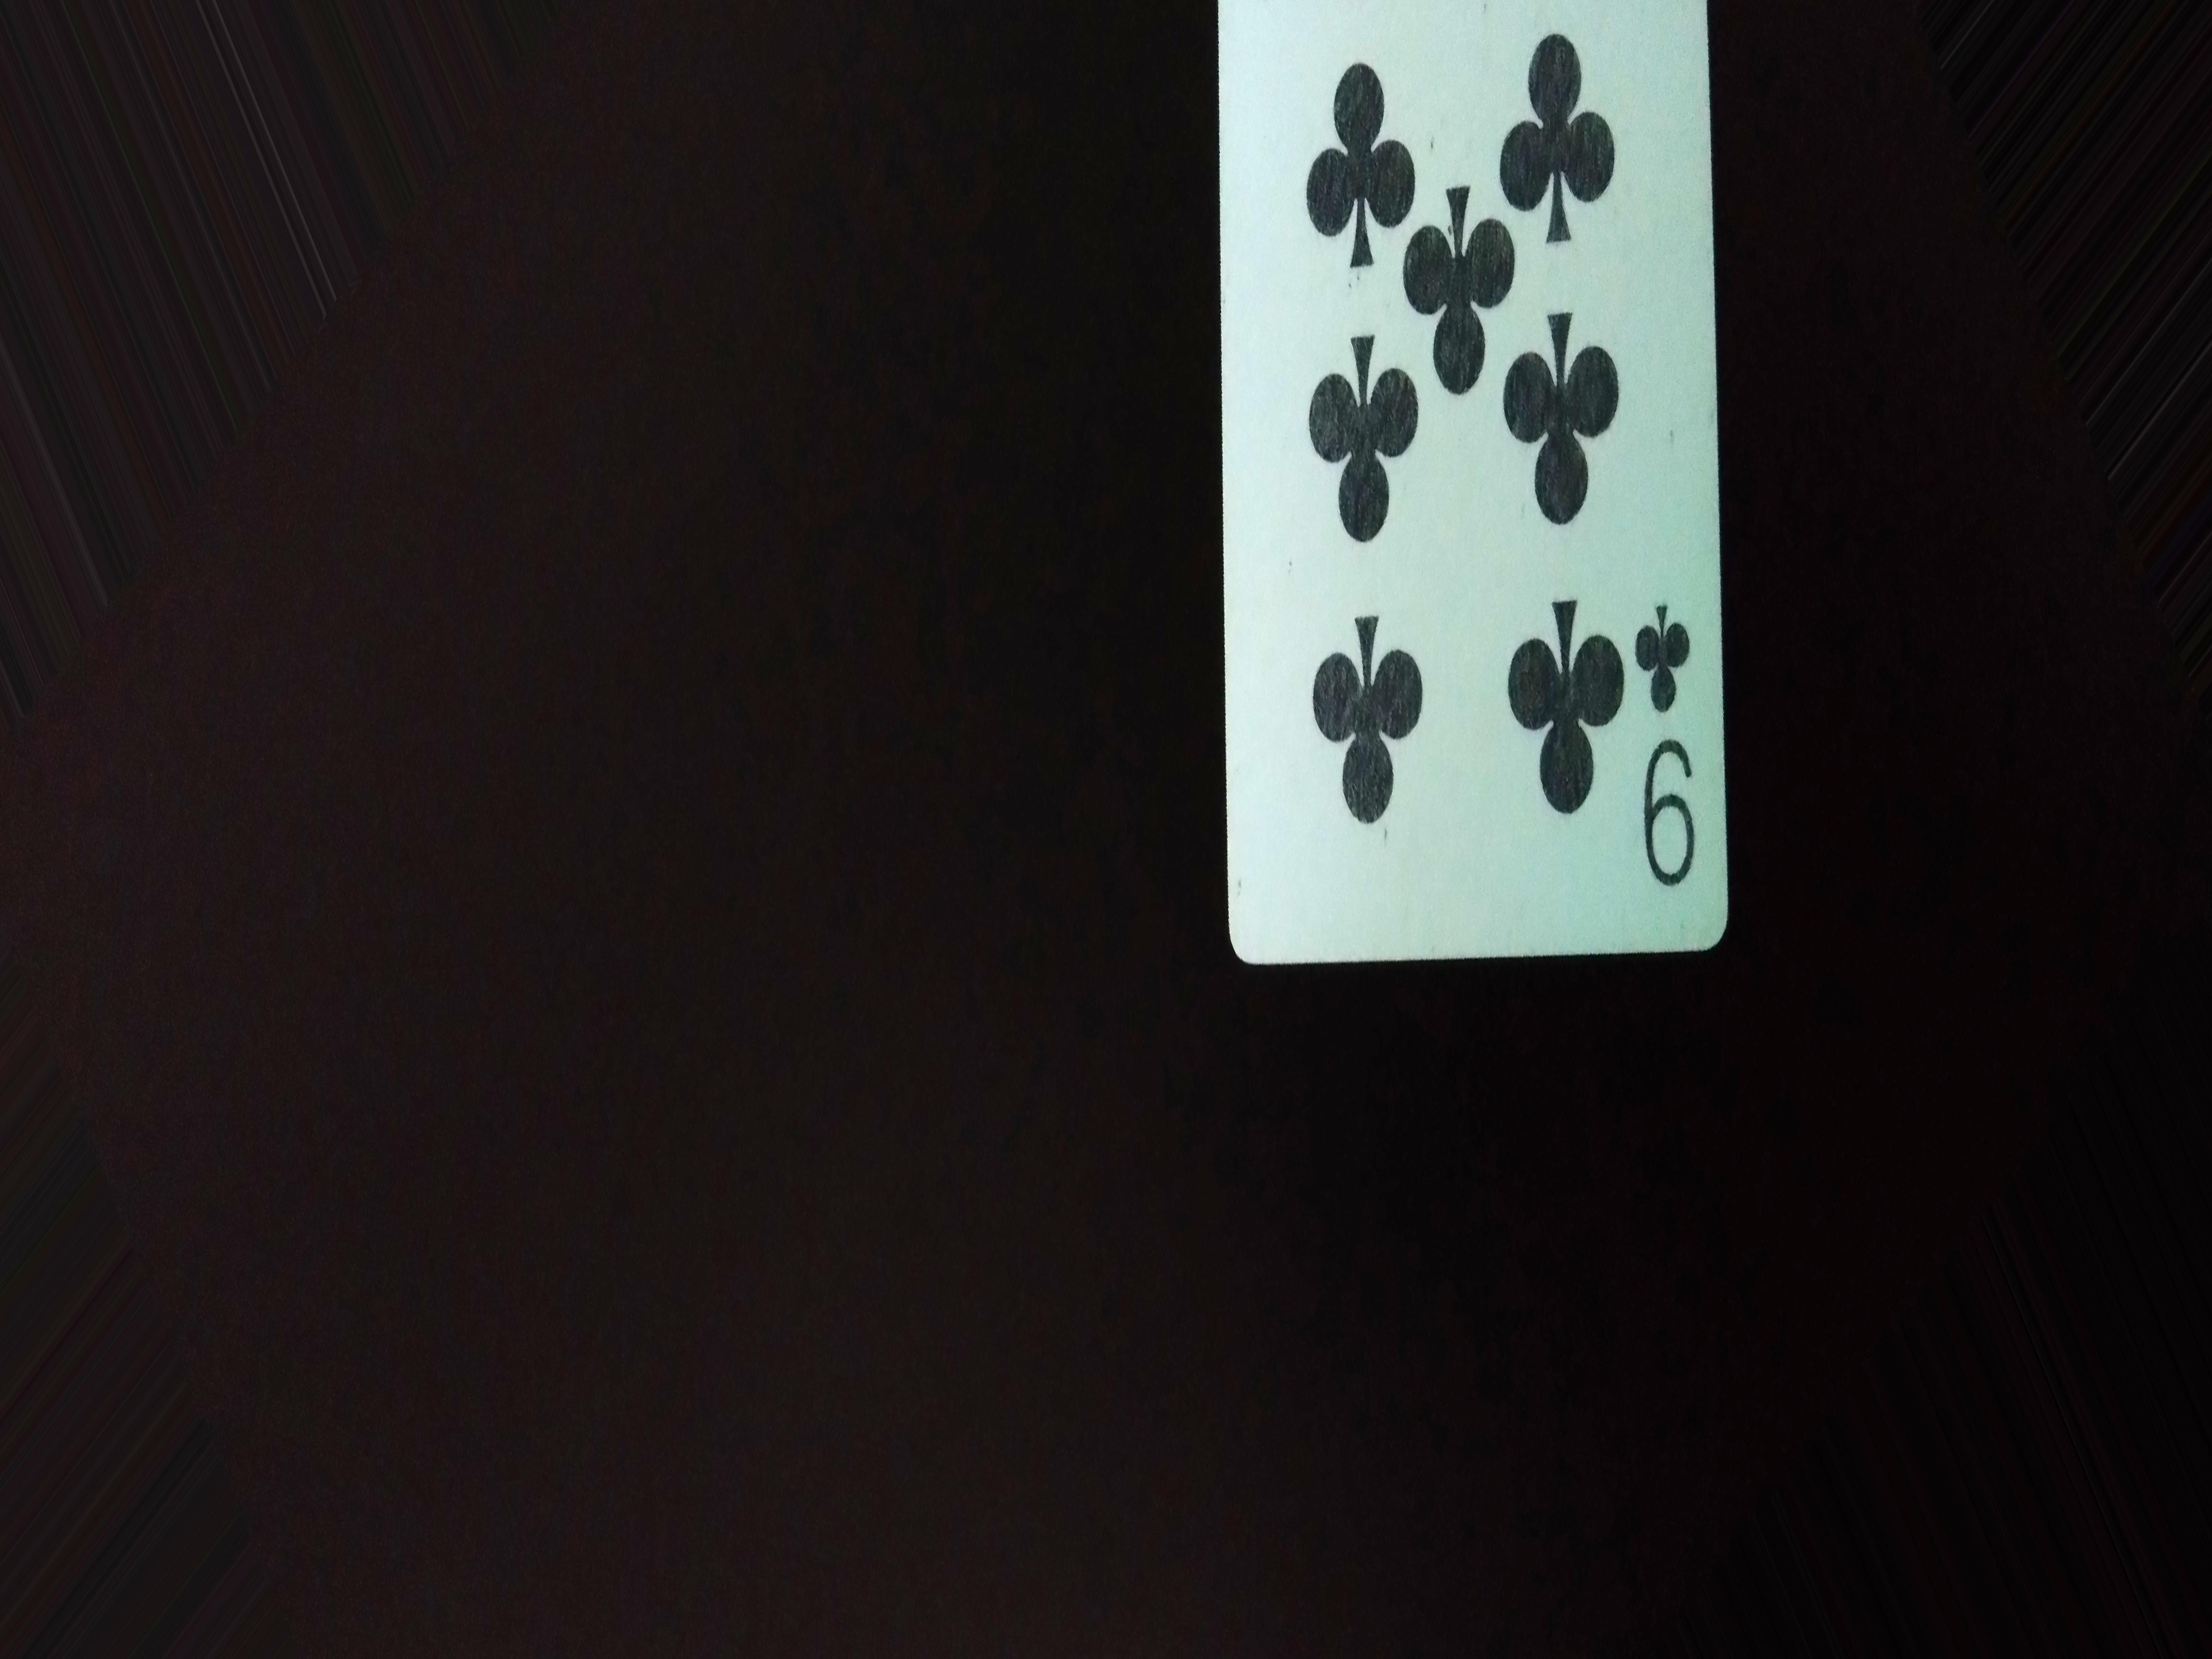9C: (1634, 565, 1730, 934)
